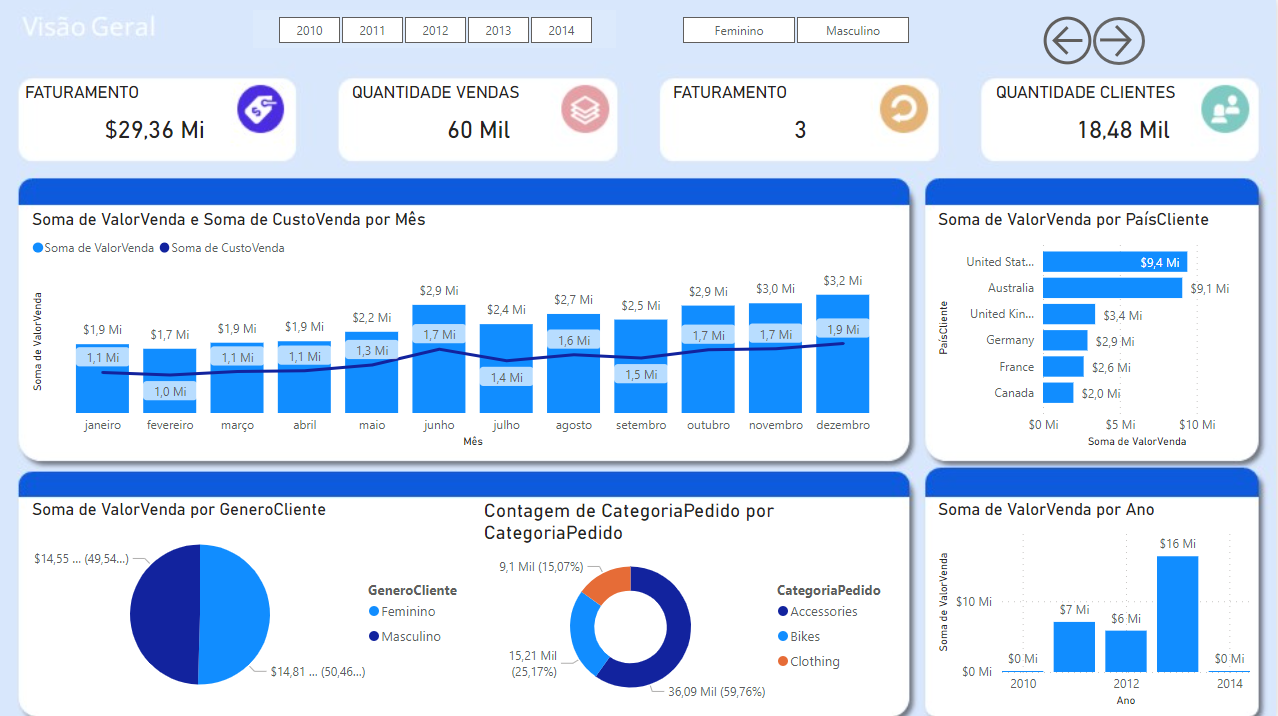

What the dashboard file says about the page in this screenshot:
{"tool":"powerbi","page":{"name":"VISAO GERAL","canvas":[1280,720],"ordinal":1},"visuals":[{"type":"actionButton","box":[1041,11,62,61],"z":0},{"type":"card","title":"FATURAMENTO ","fields":{"Values":["Sum(vw_AnaliseVendas - vw_AnaliseVendas.ValorVenda)"]},"box":[24,83,269,74],"z":1000},{"type":"card","title":"QUANTIDADE VENDAS","fields":{"Values":["Sum(vw_AnaliseVendas - vw_AnaliseVendas.QuantidadeVendida)"]},"box":[351,83,263,74],"z":2000},{"type":"card","title":"FATURAMENTO ","fields":{"Values":["Count(vw_AnaliseVendas - vw_AnaliseVendas.CategoriaPedido)"]},"box":[672,83,265,74],"z":3000},{"type":"card","title":"QUANTIDADE CLIENTES","fields":{"Values":["Count(vw_AnaliseVendas - vw_AnaliseVendas.IDCliente)"]},"box":[995,83,264,74],"z":4000},{"type":"actionButton","box":[1098,21,60,42],"z":5000},{"type":"shape","box":[1097,18,52,48],"z":6000},{"type":"lineClusteredColumnComboChart","fields":{"Category":["vw_AnaliseVendas - vw_AnaliseVendas.DataPedido.Variation.Hierarquia de datas.Mês"],"Y":["Sum(vw_AnaliseVendas - vw_AnaliseVendas.ValorVenda)"],"Y2":["Sum(vw_AnaliseVendas - vw_AnaliseVendas.CustoVenda)"]},"box":[31,210,875,243],"z":7000},{"type":"clusteredBarChart","fields":{"Y":["Sum(vw_AnaliseVendas - vw_AnaliseVendas.ValorVenda)"],"Category":["vw_AnaliseVendas - vw_AnaliseVendas.PaísCliente"]},"box":[937,210,322,243],"z":8000},{"type":"clusteredColumnChart","fields":{"Category":["vw_AnaliseVendas - vw_AnaliseVendas.DataPedido.Variation.Hierarquia de datas.Ano"],"Y":["Sum(vw_AnaliseVendas - vw_AnaliseVendas.ValorVenda)"]},"box":[937,500,322,212],"z":9000},{"type":"pieChart","fields":{"Y":["Sum(vw_AnaliseVendas - vw_AnaliseVendas.ValorVenda)"],"Category":["vw_AnaliseVendas - vw_AnaliseVendas.GeneroCliente"]},"box":[31,500,452,212],"z":9001},{"type":"donutChart","fields":{"Category":["vw_AnaliseVendas - vw_AnaliseVendas.CategoriaPedido"],"Y":["CountNonNull(vw_AnaliseVendas - vw_AnaliseVendas.CategoriaPedido)"]},"box":[483,500,423,212],"z":9002},{"type":"slicer","fields":{"Values":["vw_AnaliseVendas - vw_AnaliseVendas.DataPedido.Variation.Hierarquia de datas.Ano"]},"box":[257,11,363,38],"z":9003},{"type":"slicer","fields":{"Values":["vw_AnaliseVendas - vw_AnaliseVendas.GeneroCliente"]},"box":[661,11,276,38],"z":9004}]}

Visuals, with their boxes in screenshot pixels (x1, y1, x2, y2), scaled from the page's 1280x720 canvas onto the 1278x716 screenshot:
actionButton: left=1039, top=11, right=1101, bottom=72
"FATURAMENTO " card: left=24, top=83, right=293, bottom=156
"QUANTIDADE VENDAS" card: left=350, top=83, right=613, bottom=156
"FATURAMENTO " card: left=671, top=83, right=936, bottom=156
"QUANTIDADE CLIENTES" card: left=993, top=83, right=1257, bottom=156
actionButton: left=1096, top=21, right=1156, bottom=63
shape: left=1095, top=18, right=1147, bottom=66
lineClusteredColumnComboChart - vw_AnaliseVendas - vw_AnaliseVendas.DataPedido.Variation.Hierarquia de datas.Mês x Sum(vw_AnaliseVendas - vw_AnaliseVendas.ValorVenda): left=31, top=209, right=905, bottom=450
clusteredBarChart - Sum(vw_AnaliseVendas - vw_AnaliseVendas.ValorVenda) x vw_AnaliseVendas - vw_AnaliseVendas.PaísCliente: left=936, top=209, right=1257, bottom=450
clusteredColumnChart - vw_AnaliseVendas - vw_AnaliseVendas.DataPedido.Variation.Hierarquia de datas.Ano x Sum(vw_AnaliseVendas - vw_AnaliseVendas.ValorVenda): left=936, top=497, right=1257, bottom=708
pieChart - Sum(vw_AnaliseVendas - vw_AnaliseVendas.ValorVenda) x vw_AnaliseVendas - vw_AnaliseVendas.GeneroCliente: left=31, top=497, right=482, bottom=708
donutChart - vw_AnaliseVendas - vw_AnaliseVendas.CategoriaPedido x CountNonNull(vw_AnaliseVendas - vw_AnaliseVendas.CategoriaPedido): left=482, top=497, right=905, bottom=708
slicer - vw_AnaliseVendas - vw_AnaliseVendas.DataPedido.Variation.Hierarquia de datas.Ano: left=257, top=11, right=619, bottom=49
slicer - vw_AnaliseVendas - vw_AnaliseVendas.GeneroCliente: left=660, top=11, right=936, bottom=49
